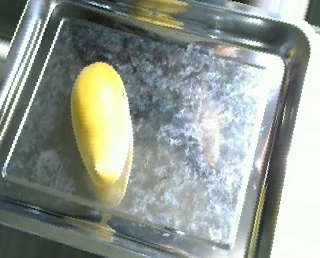Mango: (62, 56, 137, 188)
